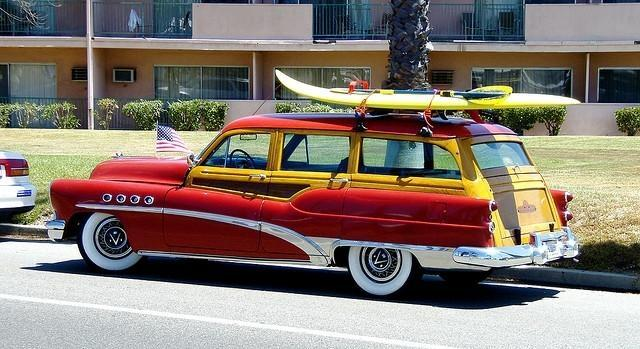car: (47, 66, 586, 298), (0, 152, 35, 223)
